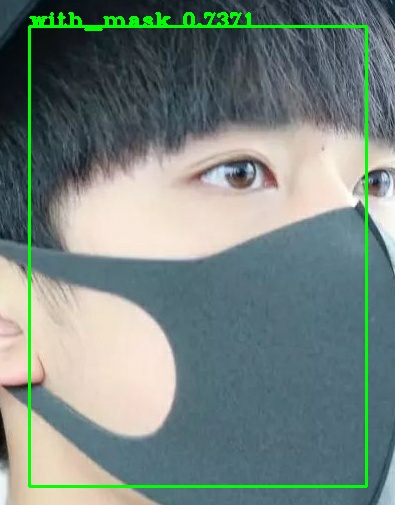with_mask: (5, 3, 395, 502)
